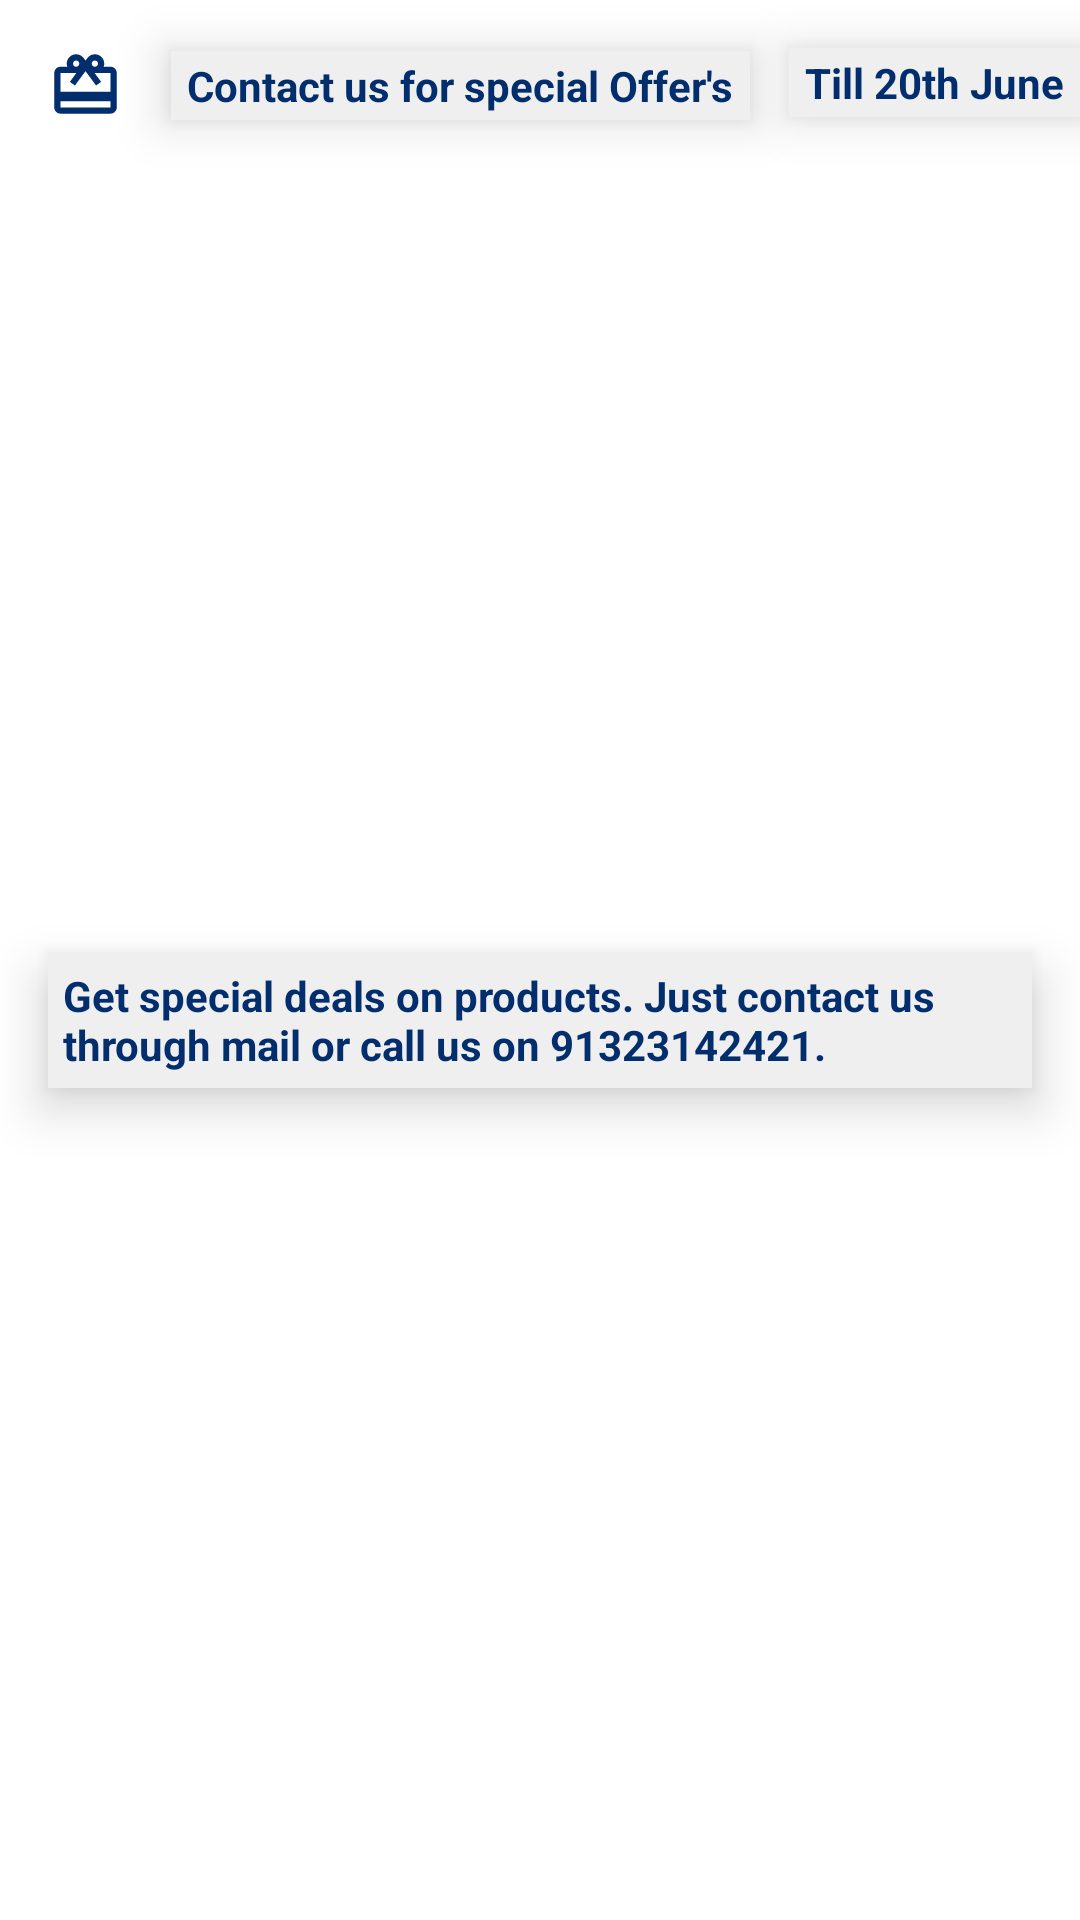

Named icons in this screenshot (1080 x 1920) and their bounding boxes, (x1, y1, x2, y2):
card reward: (54, 54, 117, 114)
